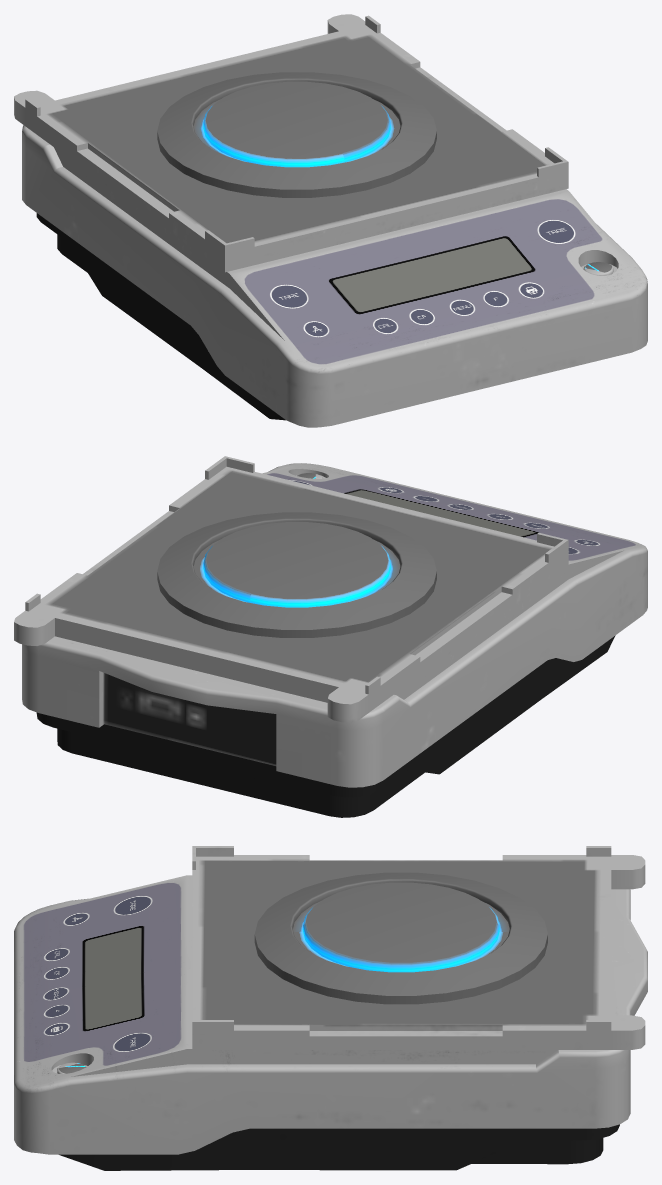
Rendered from analytical_balance_nakedsingularity (2).fbx.
3 views of the same model, one above another, from view 1: azimuth 30°, elevation 25°; view 2: azimuth 150°, elevation 25°; view 3: azimuth 270°, elevation 25° (orthographic). The views are drawn at different scales.
Parts seen in each view (by area): view 1: SM_Analytical_Balance_body1; view 2: SM_Analytical_Balance_body1; view 3: SM_Analytical_Balance_body1.
Part boxes in pixels (x1,y1,x2,y2): SM_Analytical_Balance_body1: (14, 14, 647, 427); SM_Analytical_Balance_body1: (14, 456, 647, 817); SM_Analytical_Balance_body1: (14, 846, 647, 1170).
Size of the model in its own units: 20.24 by 8.37 by 29.69.
